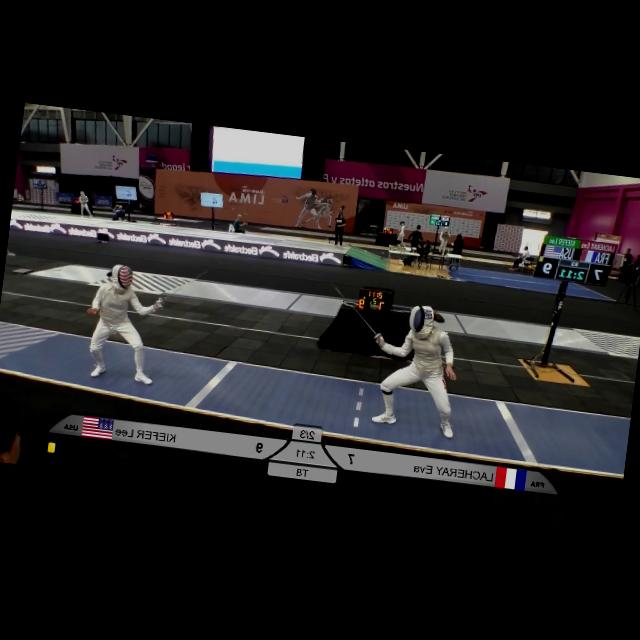blade: (314, 270, 388, 339), (154, 252, 223, 311)
